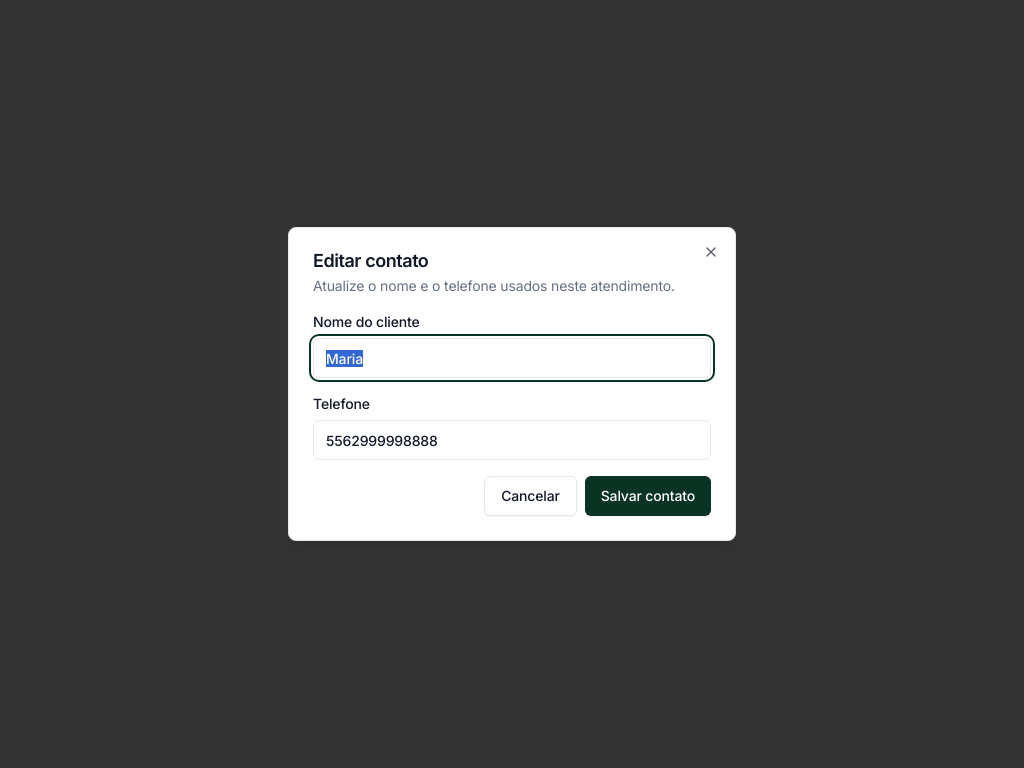
Test: explica telefone inválido antes de tentar salvar o contato
Replace the text in the field labelled "Telefone" with "123": (512, 440) [313,420,711,460]
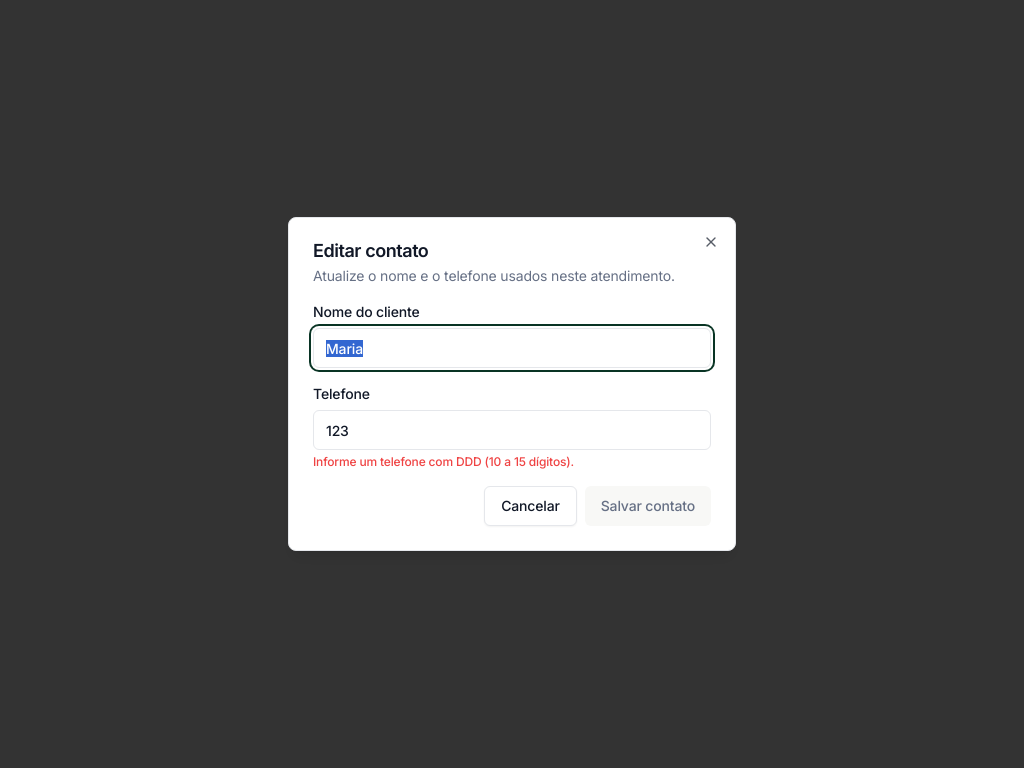
Check: the text "Informe um telefone com DDD (10 a 15 dígitos)." is shown, box [313,454,574,469]
Check: the button "Salvar contato" is disabled, box [585,486,711,526]
